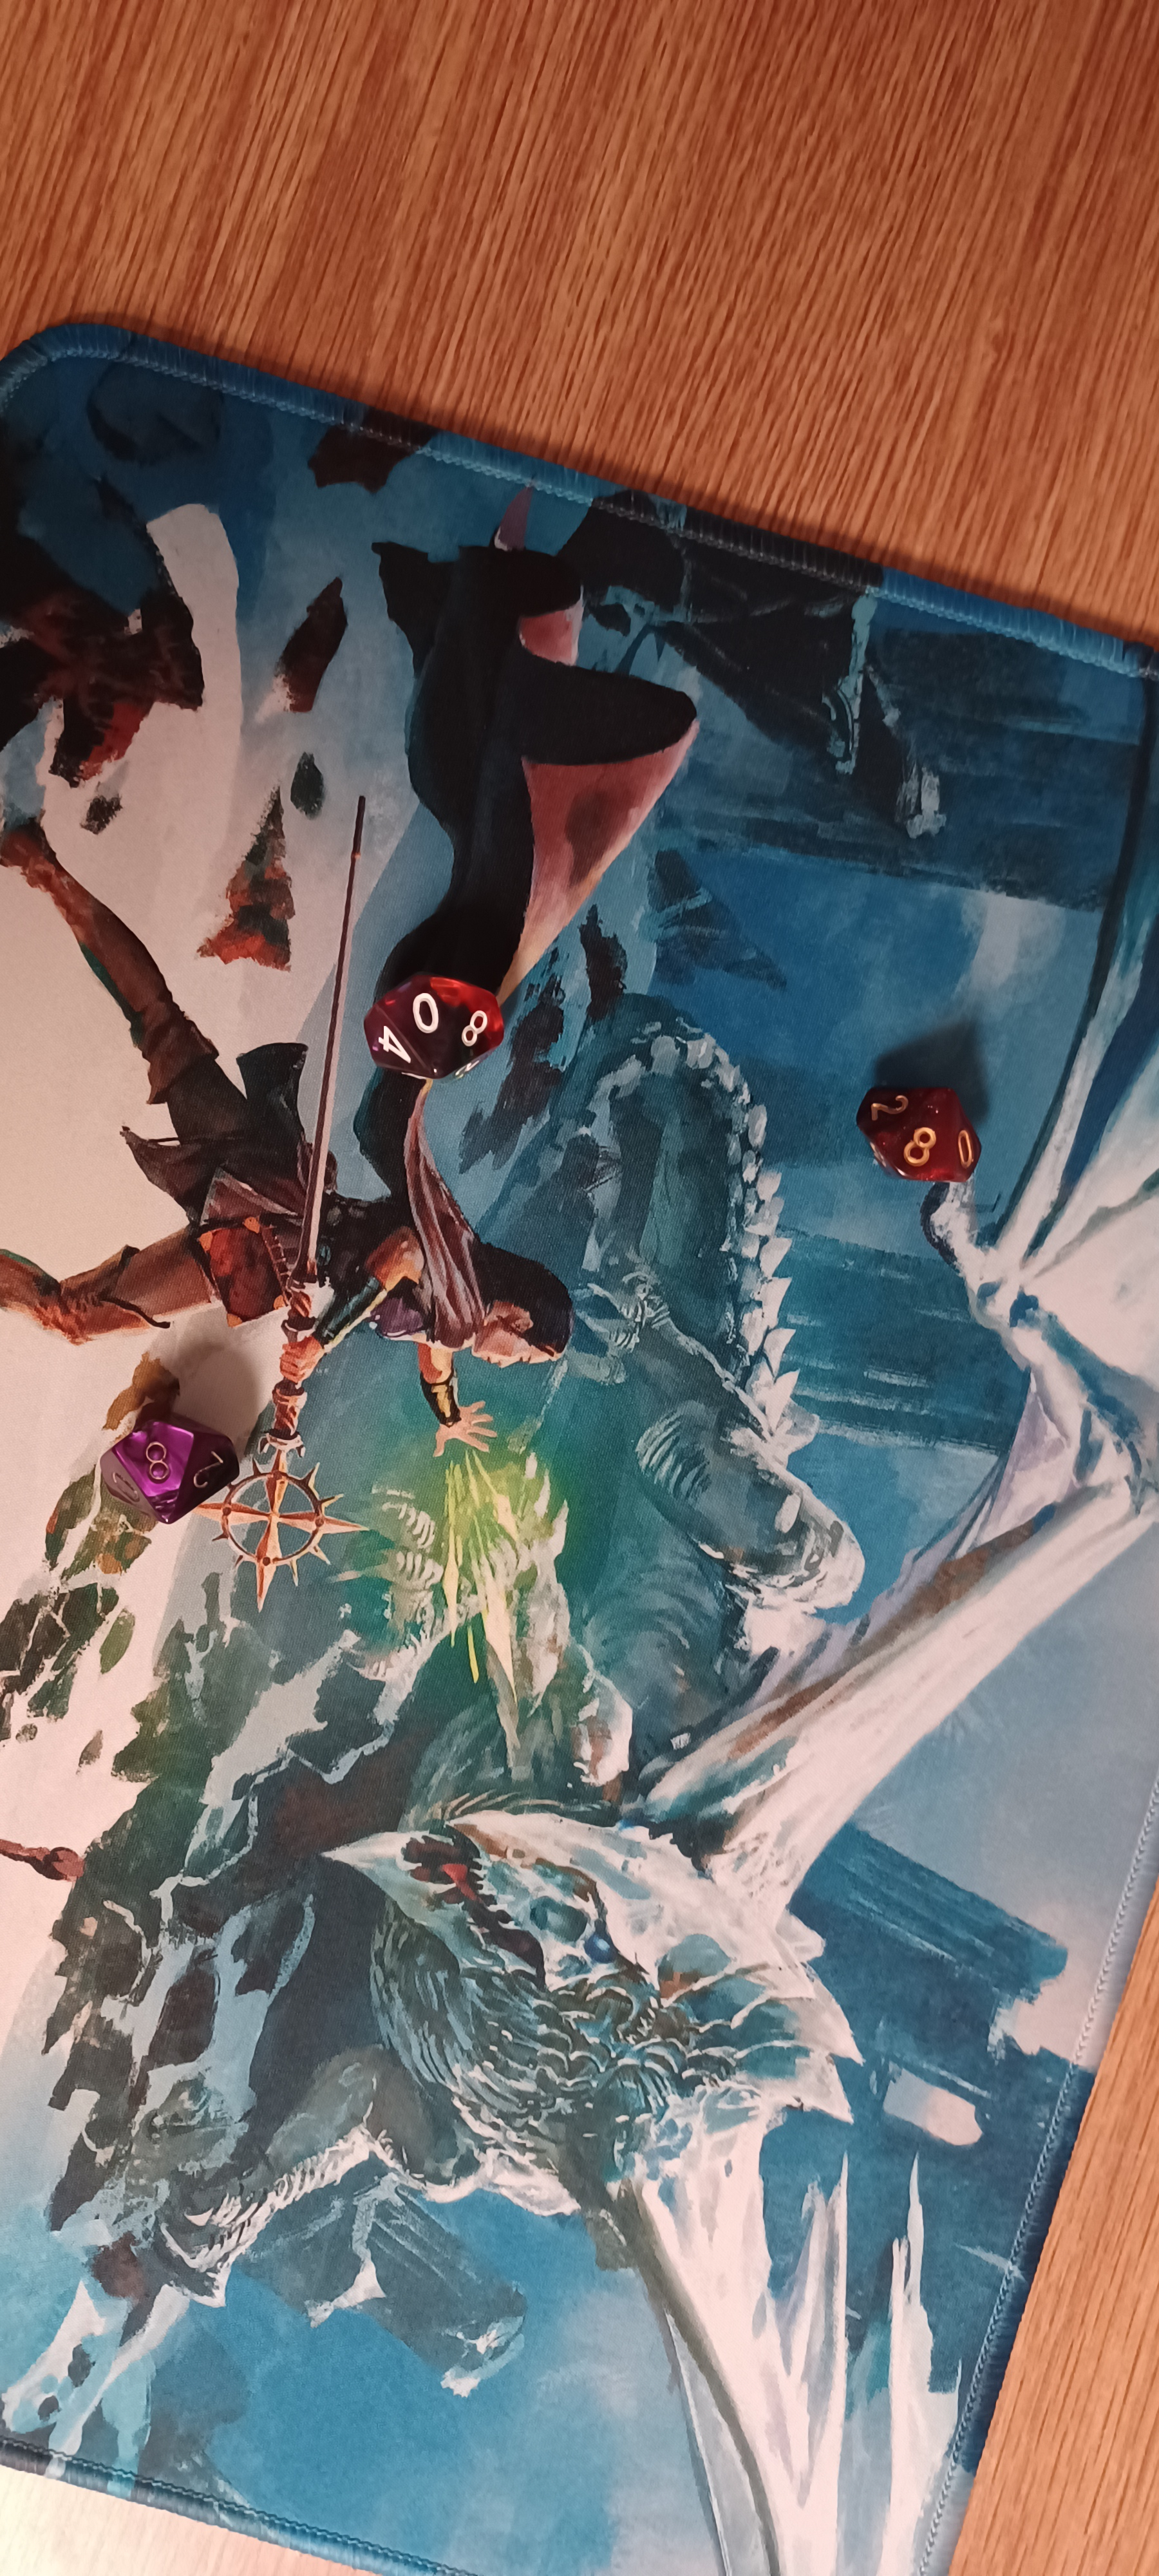eight: (71, 1380, 276, 1556), (841, 1061, 1006, 1209)
zero: (340, 954, 527, 1091)
